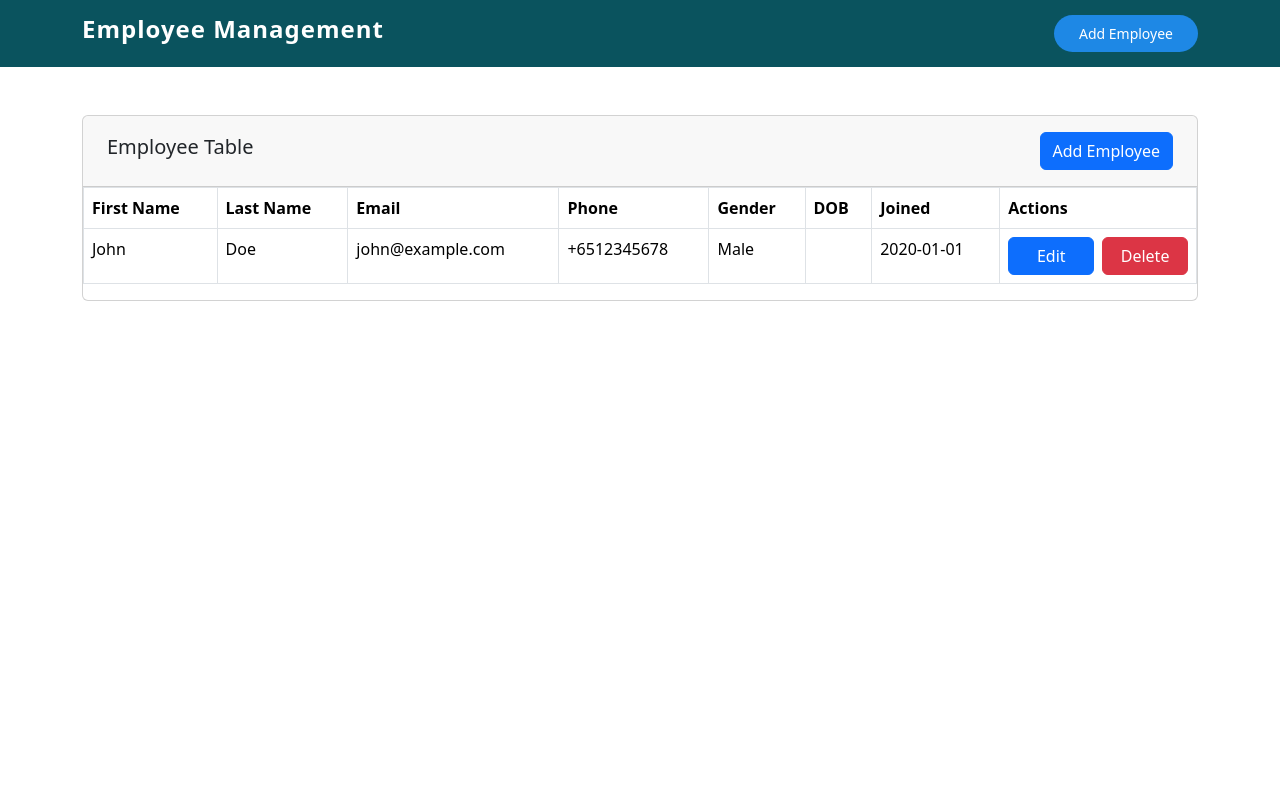
Test: EmployeeList › handles employee delete
Click the button "Delete".
click(1145, 256)  # box [1102,237,1188,275]
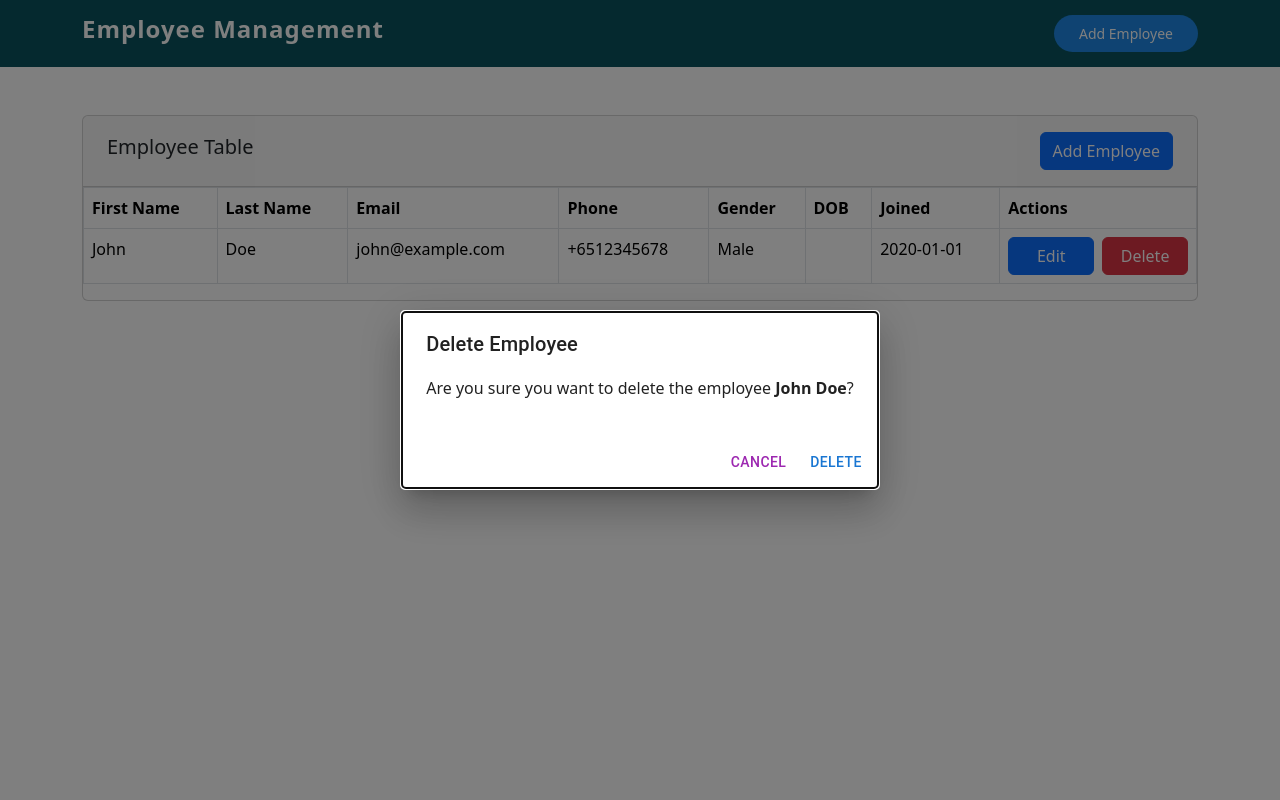
Result: the button "Delete" is shown
Click the button "Delete".
click(836, 462)  # box [802,444,870,480]
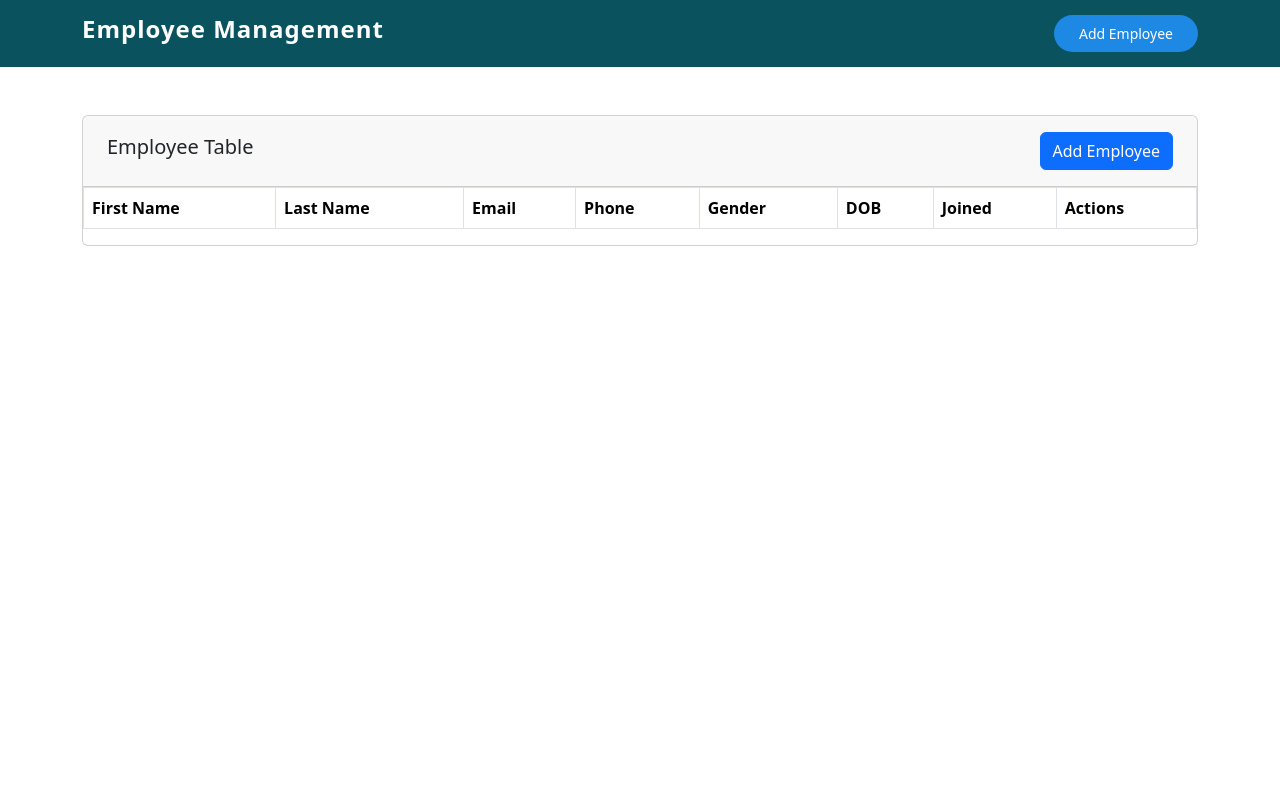
Result: the text "John" is gone
